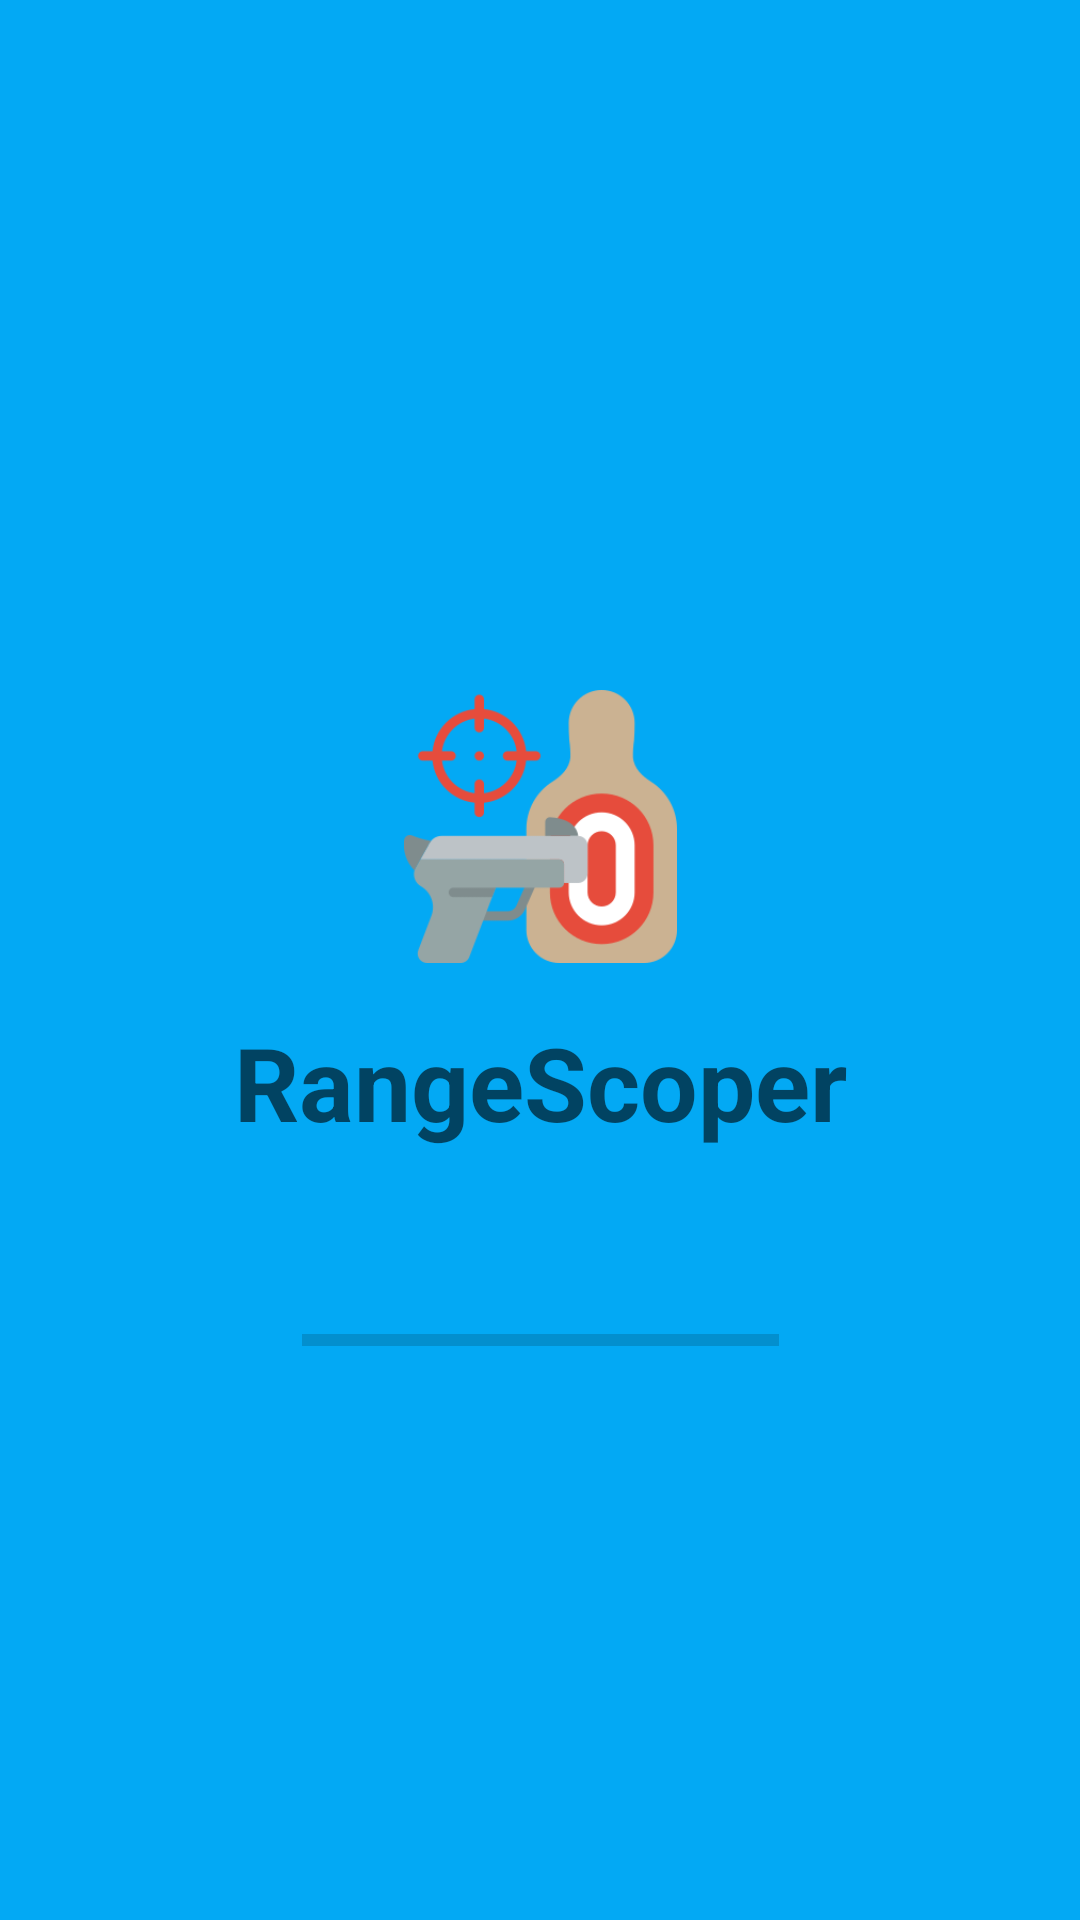

Point at icon controls on the screen. Image size 1080px×1920px, points as [x,y].
gun: [540,826]
